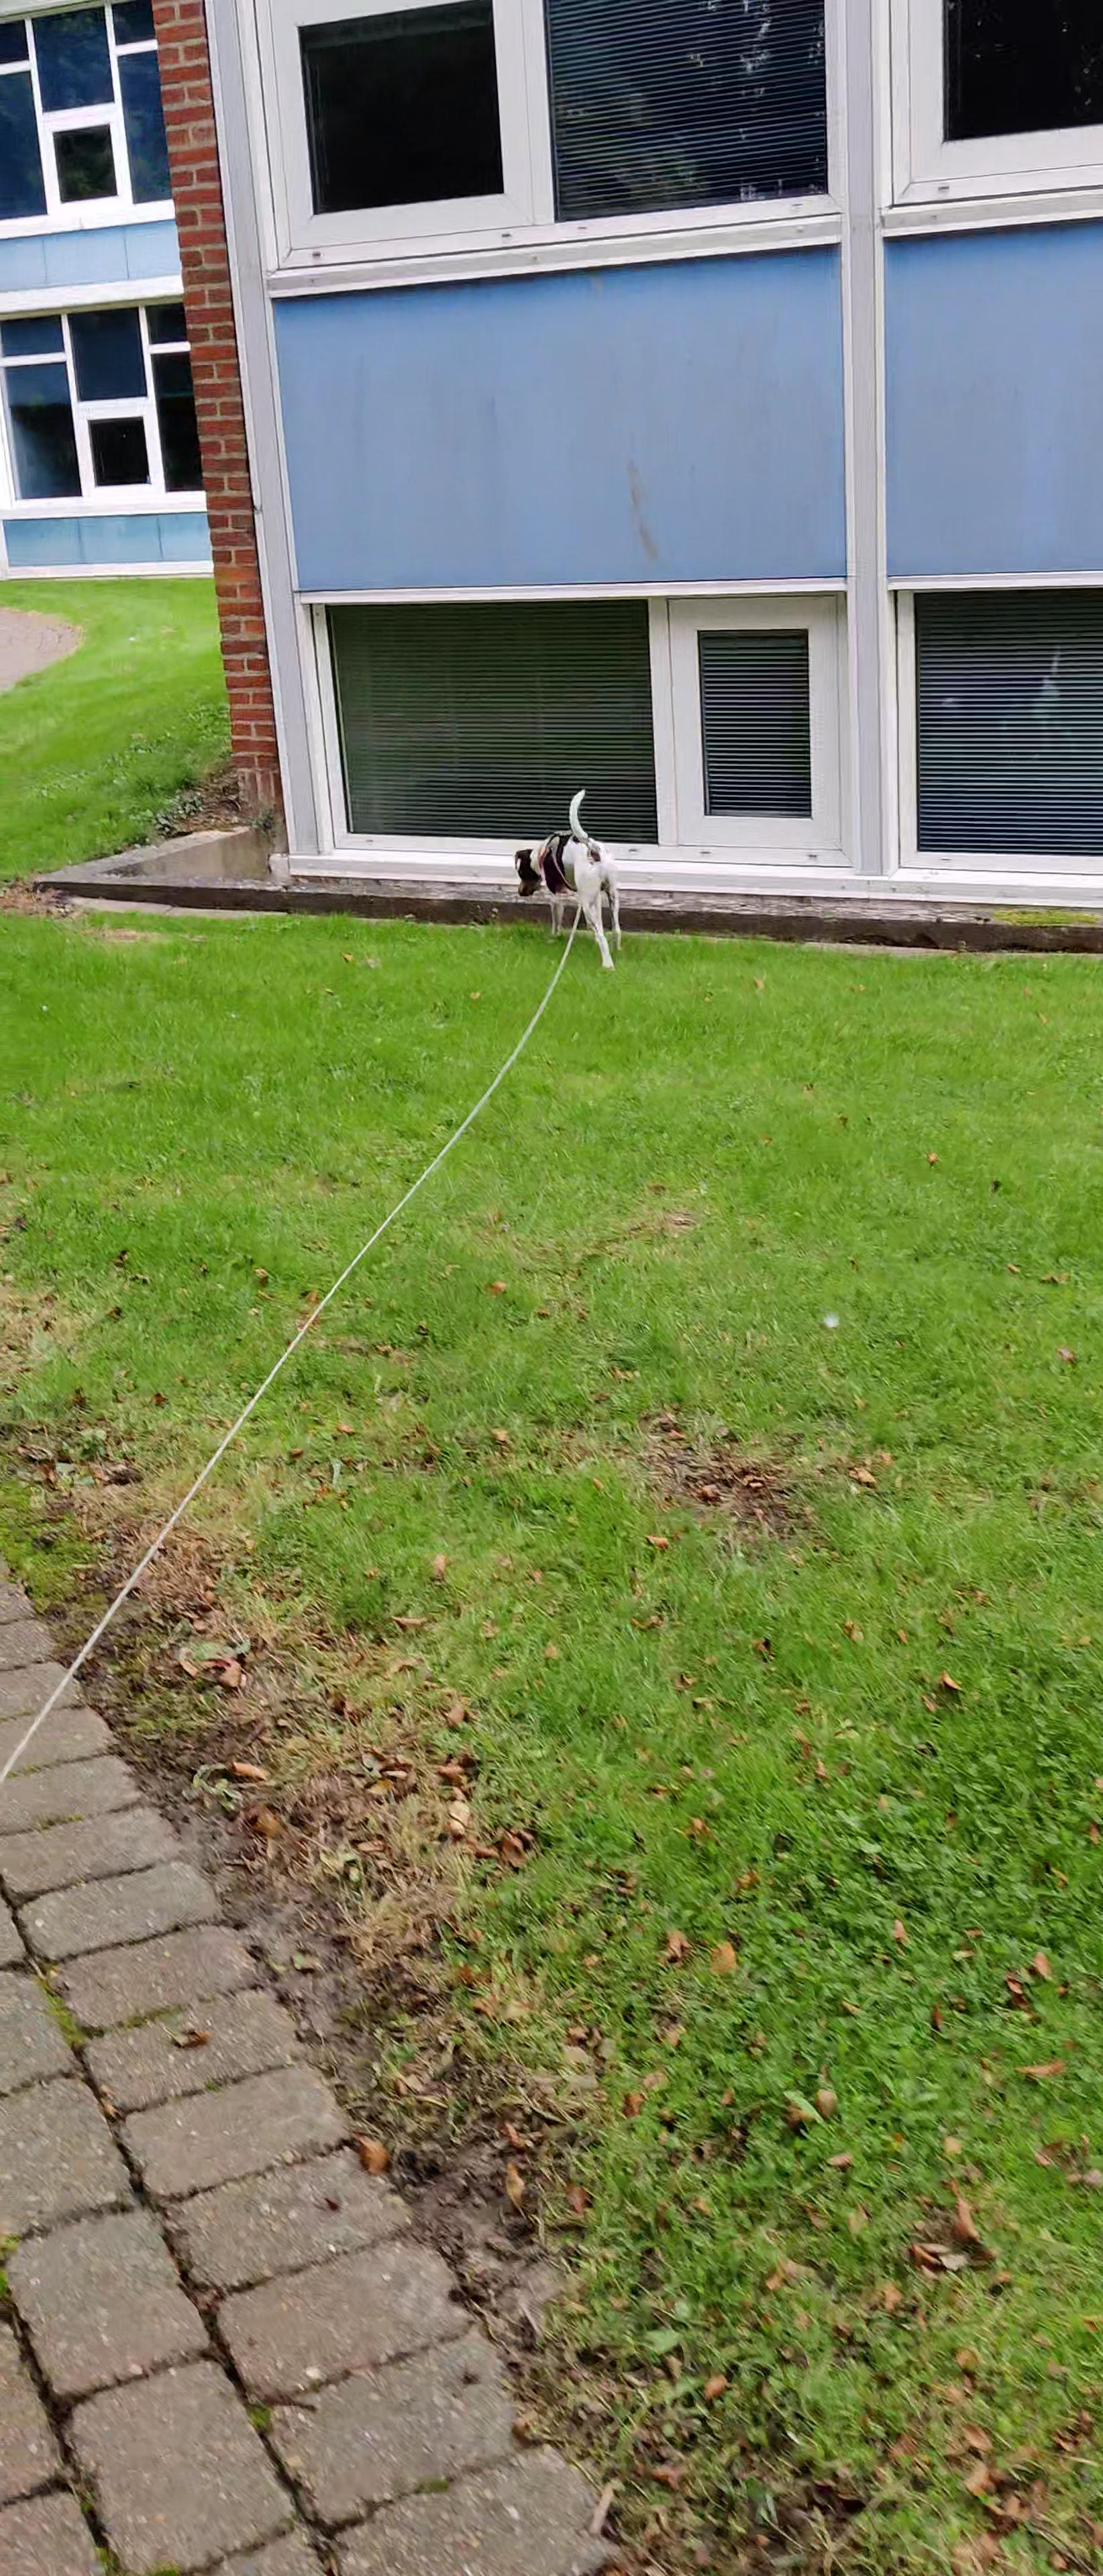Dog: (510, 784, 636, 973)
